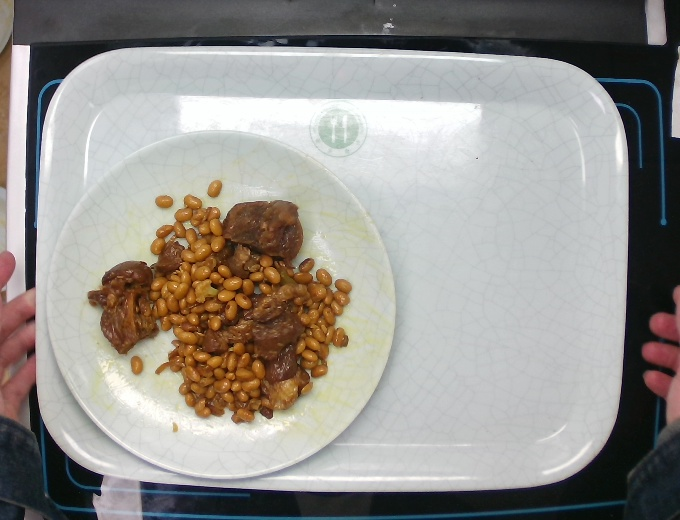JYsf-Da_Yuan_Pan: (44, 126, 400, 482)
